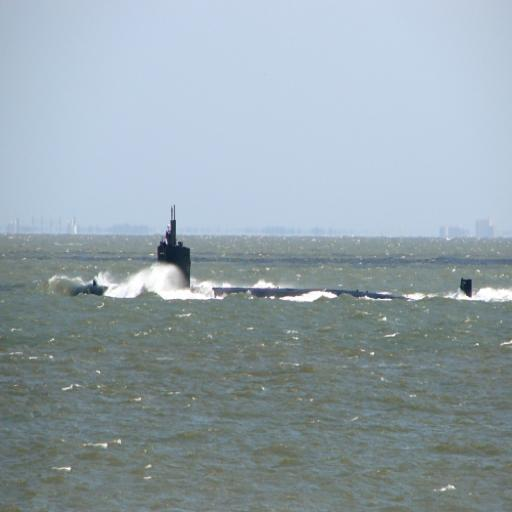submarine: (68, 208, 495, 295)
